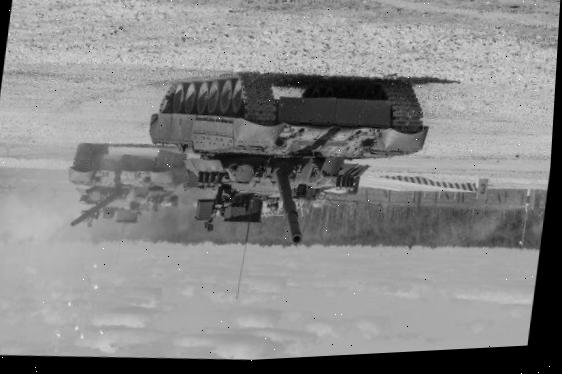tank: (132, 55, 438, 264), (61, 136, 189, 240)
